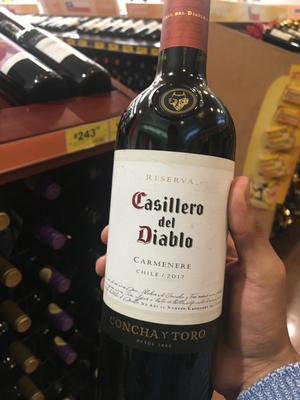casillero del diablo carmenere: (105, 17, 252, 397)
